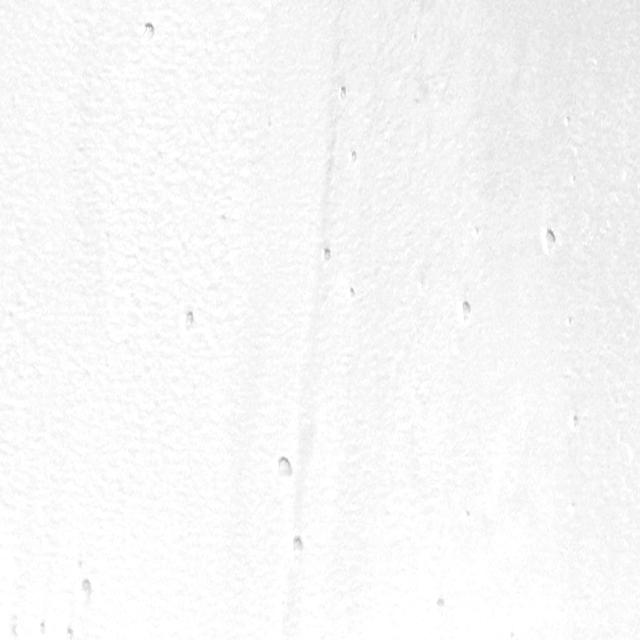pin holes: (270, 453, 295, 484), (540, 225, 562, 255), (177, 308, 199, 338), (74, 577, 96, 605), (455, 298, 475, 326), (136, 19, 158, 44), (286, 536, 307, 562), (429, 596, 450, 622), (316, 245, 335, 270), (344, 148, 363, 172), (565, 411, 583, 435), (341, 282, 358, 304), (7, 616, 22, 640), (333, 85, 349, 104), (560, 113, 574, 132), (61, 625, 77, 640), (36, 619, 49, 637), (461, 508, 474, 524), (564, 313, 576, 329), (503, 629, 517, 639)
